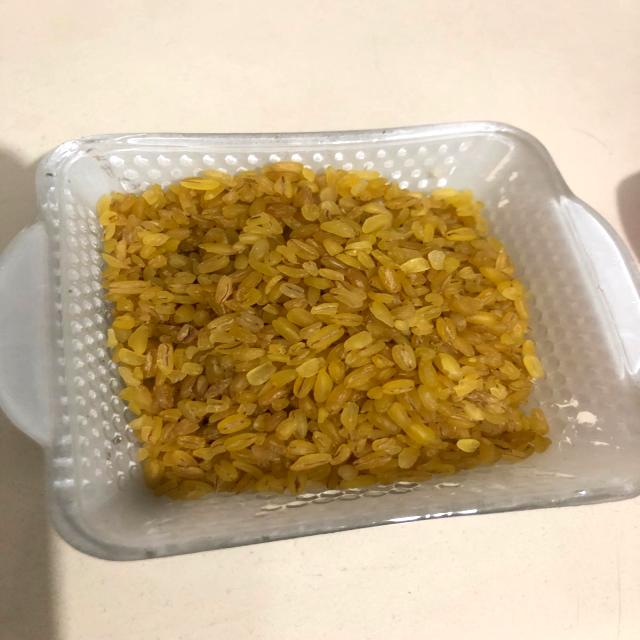bulgur: (81, 152, 564, 501)
